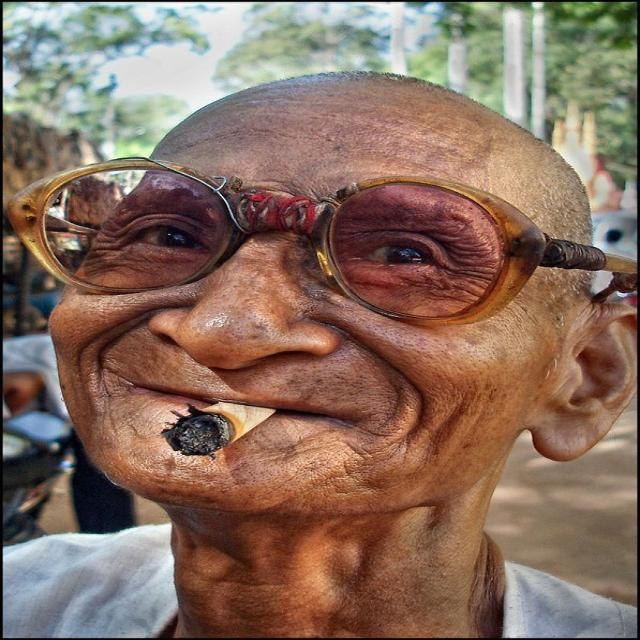earlobe: (535, 410, 597, 462)
eye: (352, 234, 441, 270), (130, 219, 210, 253)
nose: (147, 341, 324, 401)
wholeear: (536, 302, 638, 462)
